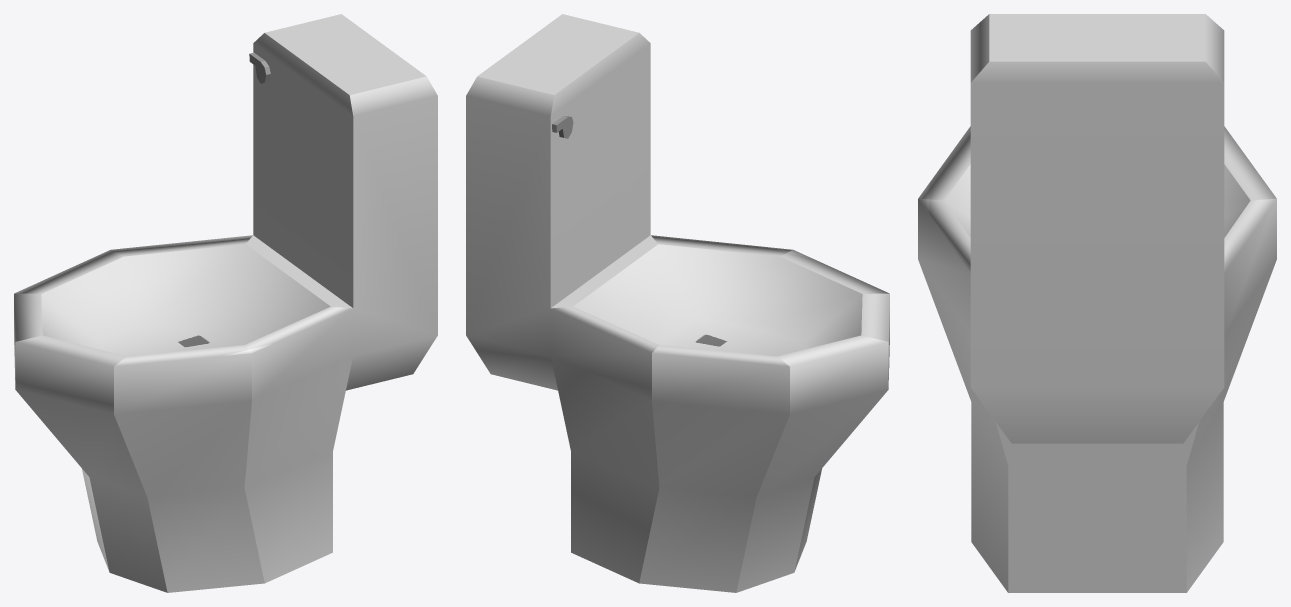
Rendered from toilet.fbx.
3 views of the same model, side by side, from view 1: azimuth 30°, elevation 25°; view 2: azimuth 150°, elevation 25°; view 3: azimuth 270°, elevation 25° (orthographic). The views are drawn at different scales.
Visible parts, largest first — view 1: polySurface1; view 2: polySurface1; view 3: polySurface1.
Part boxes in pixels (bbox=[...]): polySurface1: bbox=[14, 14, 437, 592]; polySurface1: bbox=[466, 14, 889, 592]; polySurface1: bbox=[918, 14, 1276, 592].
Size of the model in its own units: 0.9283 by 1.1 by 0.6101.
